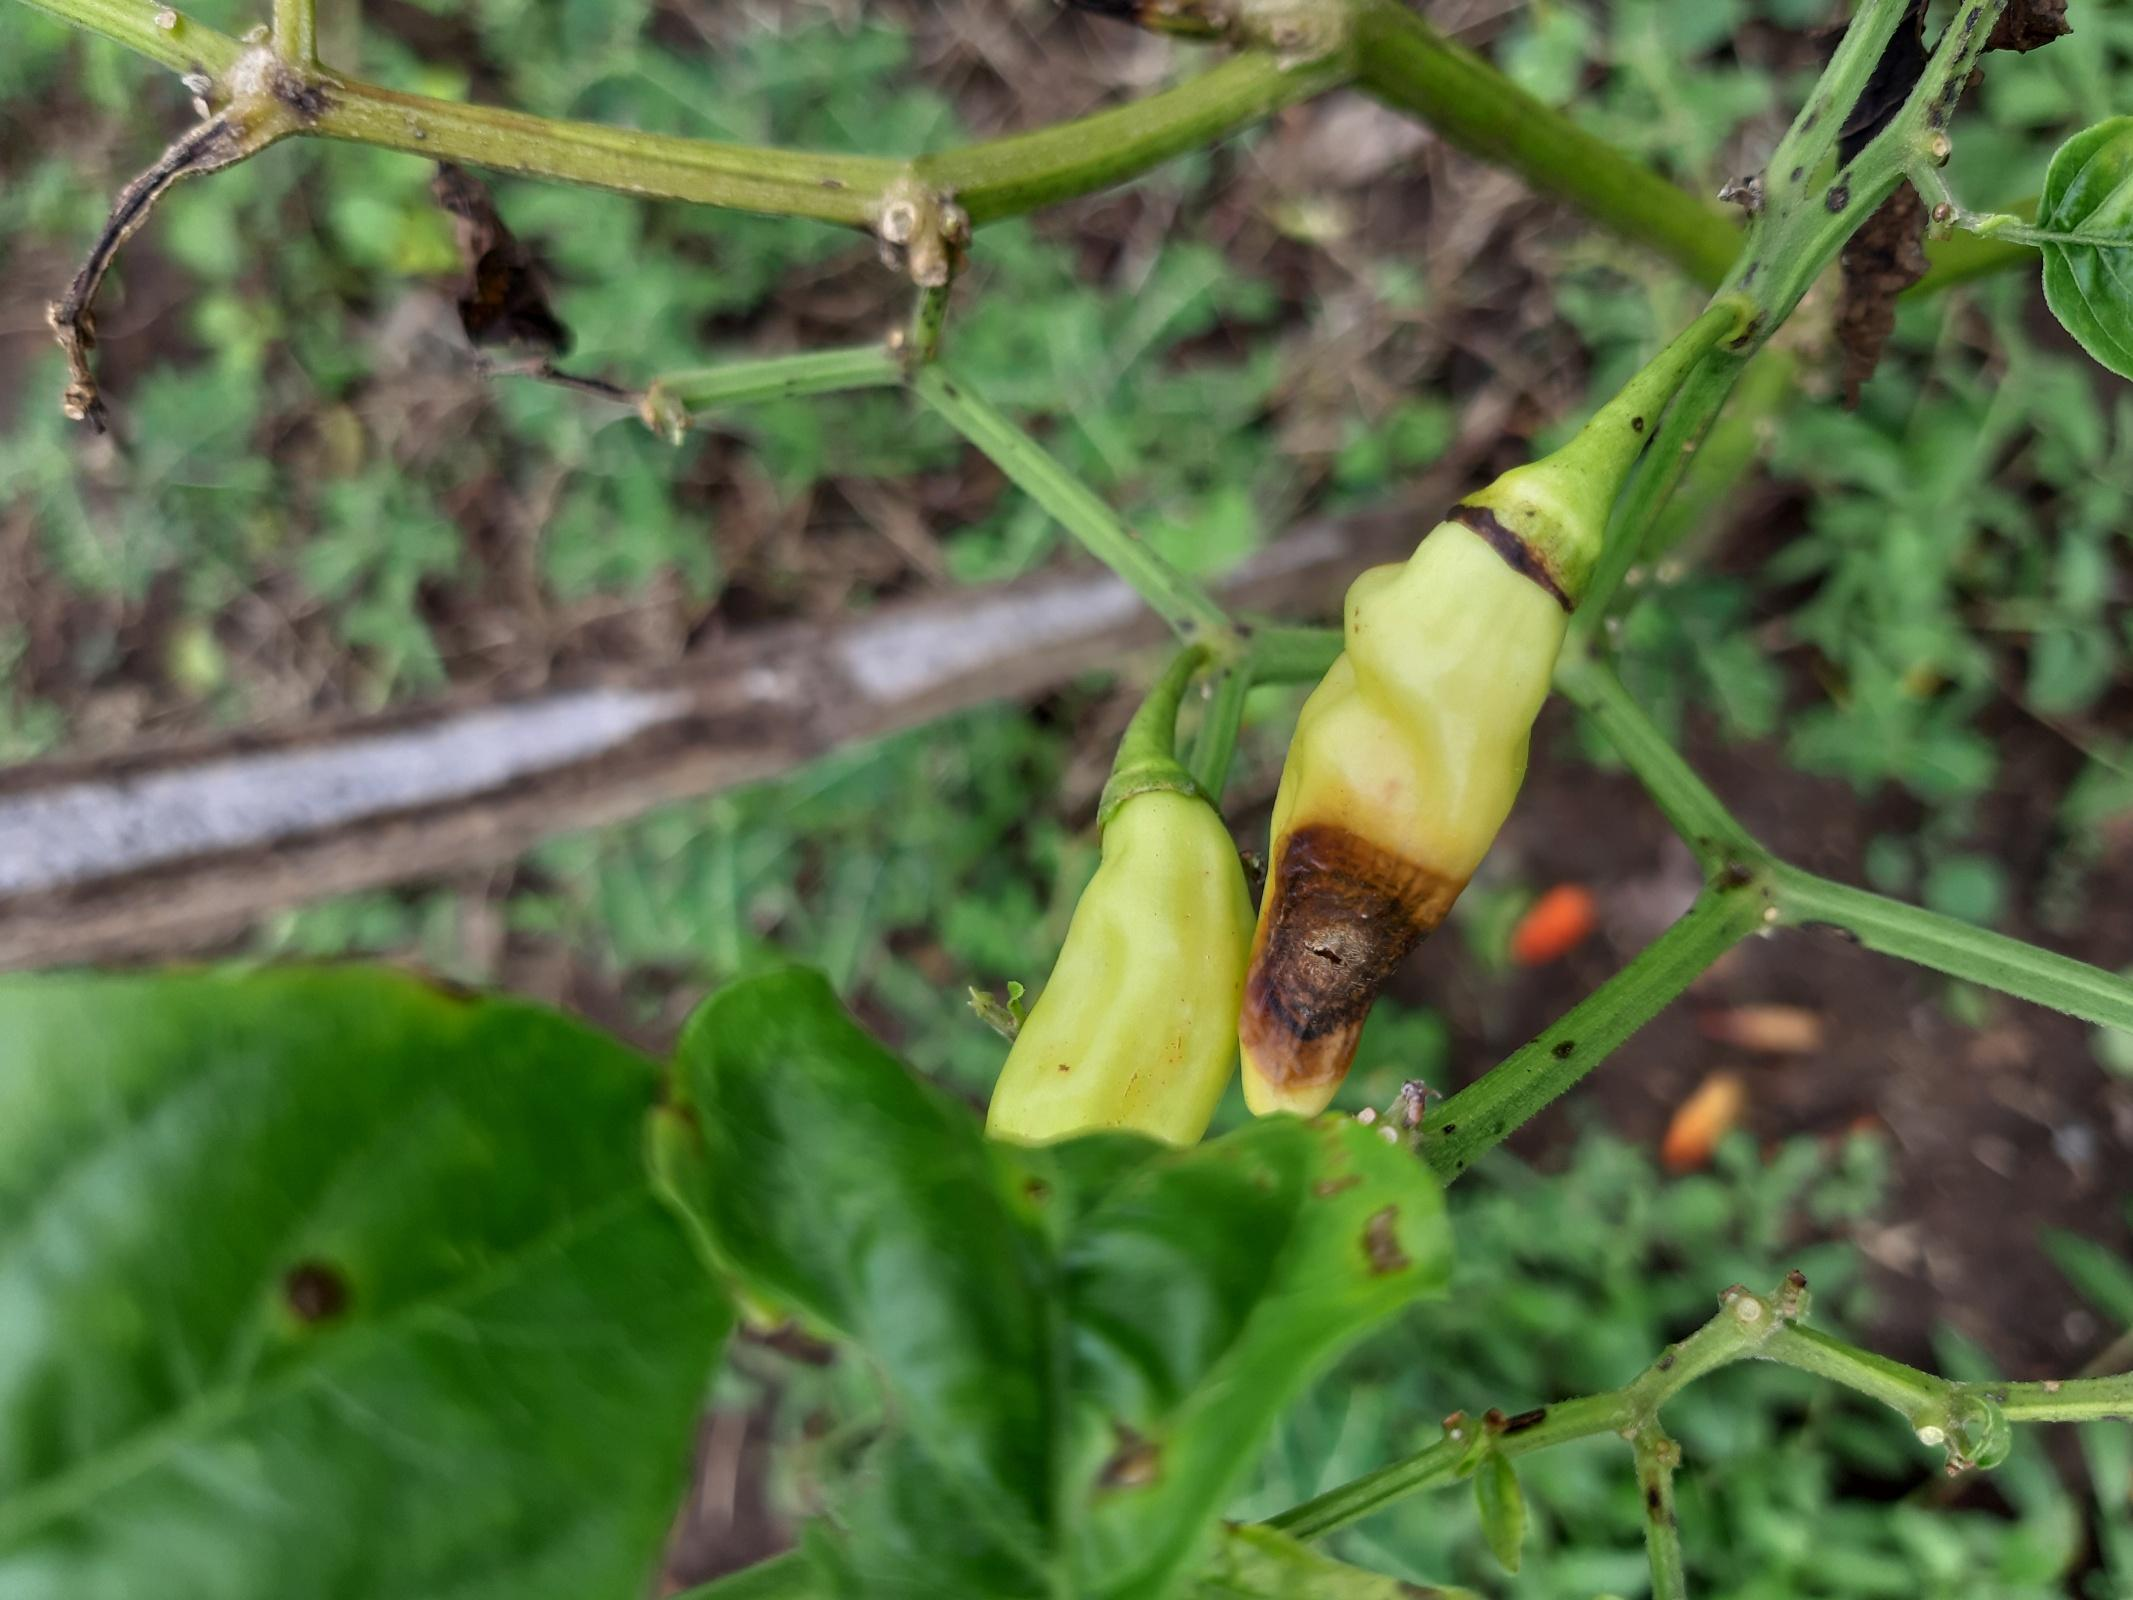antraknosa: (1229, 523, 1573, 1126)
cabai_normal: (982, 805, 1257, 1146)
